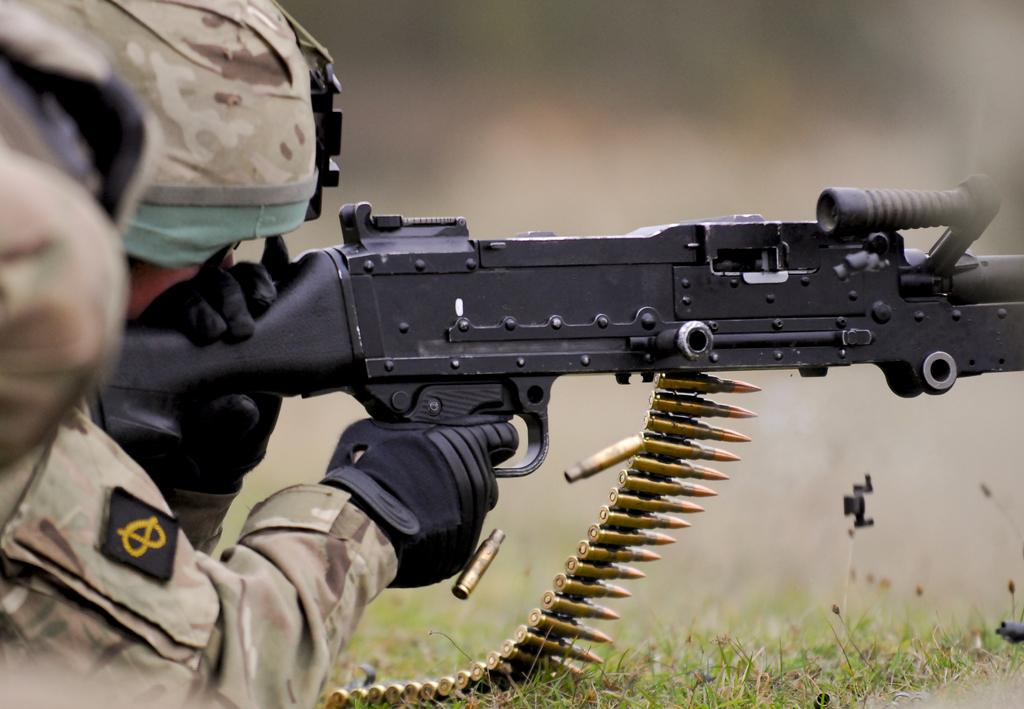Rifle: (77, 161, 1003, 671)
